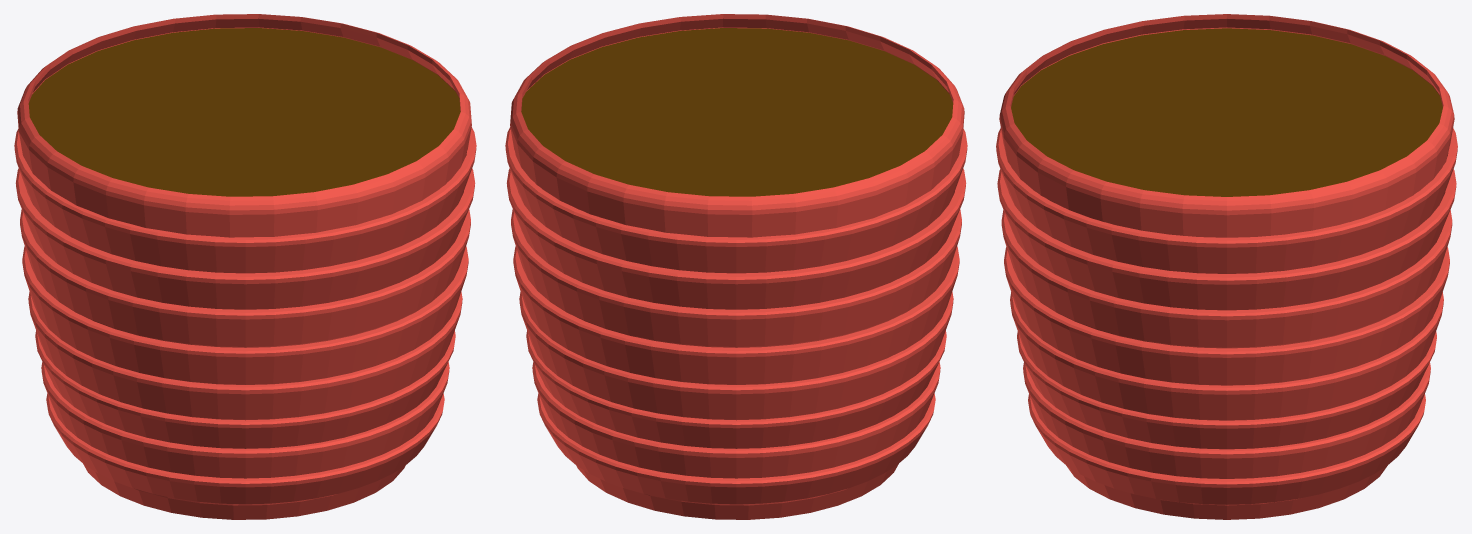
The model's file is Maceta.fbx.
3 renders of one model, left to right at view 1: azimuth 30°, elevation 25°; view 2: azimuth 150°, elevation 25°; view 3: azimuth 270°, elevation 25°, orthographic.
Visible parts, largest first — view 1: Torus; view 2: Torus; view 3: Torus.
Part boxes in pixels (x1,y1,x2,y2): Torus: (14, 14, 476, 519); Torus: (505, 14, 967, 519); Torus: (996, 14, 1457, 519).
Bounding box in the file's own units: 202 × 169 × 202.
